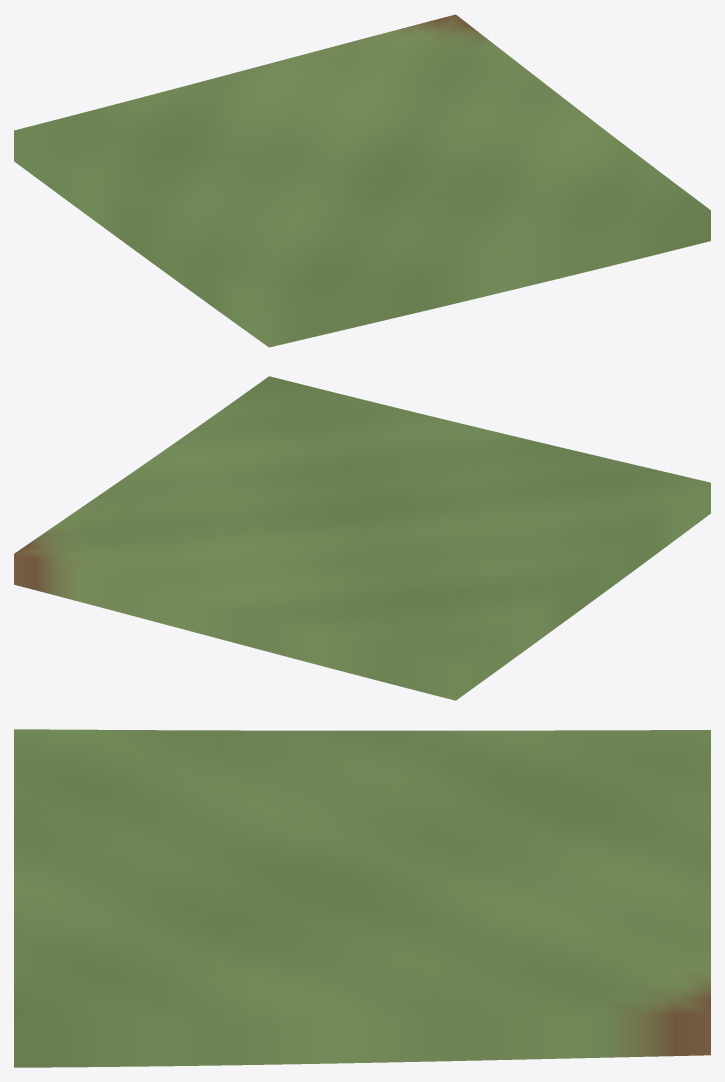
3 views of the same model, one above another, from view 1: azimuth 30°, elevation 25°; view 2: azimuth 150°, elevation 25°; view 3: azimuth 270°, elevation 25° (orthographic). The views are drawn at different scales.
Visible parts, largest first — view 1: terrain; view 2: terrain; view 3: terrain.
Boxes of the visible parts, left/top/right/bottom form: terrain: left=14, top=14, right=710, bottom=347; terrain: left=14, top=376, right=710, bottom=700; terrain: left=14, top=729, right=710, bottom=1067.
Bounding box in the file's own units: 30 × 2.62 × 30.
